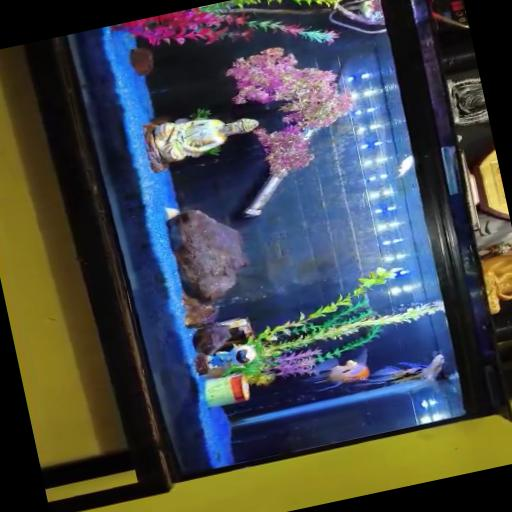Fish: (358, 352, 445, 390), (303, 347, 368, 390), (396, 155, 413, 177)
